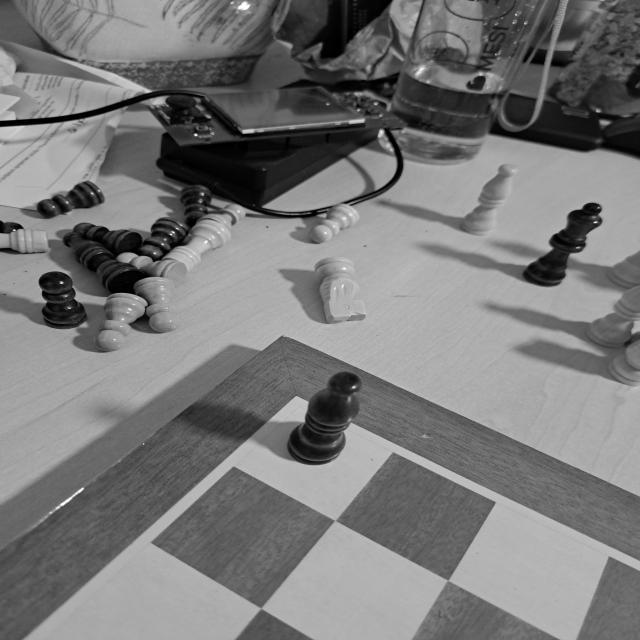chess-table-corners: (286, 390, 306, 402)
